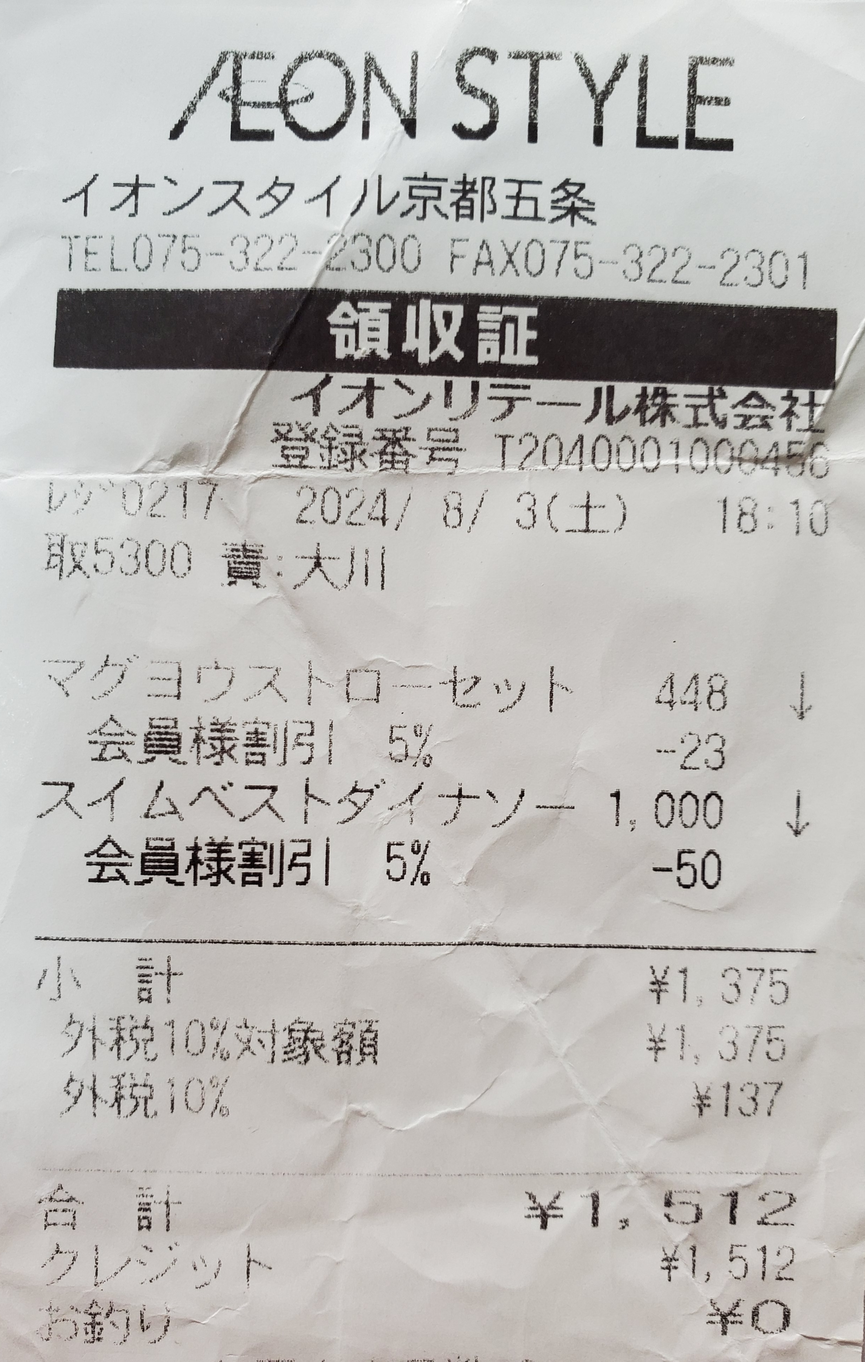Date: (289, 474, 545, 541)
Shopname: (140, 22, 774, 165)
Telnum: (130, 222, 431, 280)
Totalpay: (28, 1179, 836, 1238)
